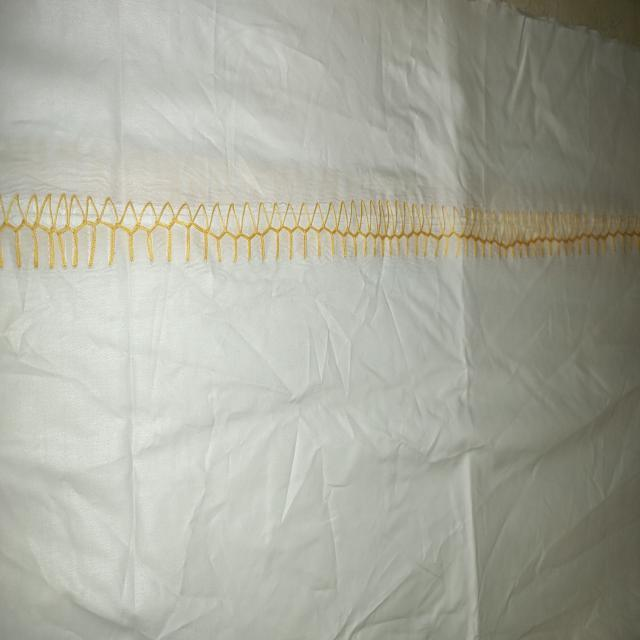Stitch: (2, 170, 628, 278)
